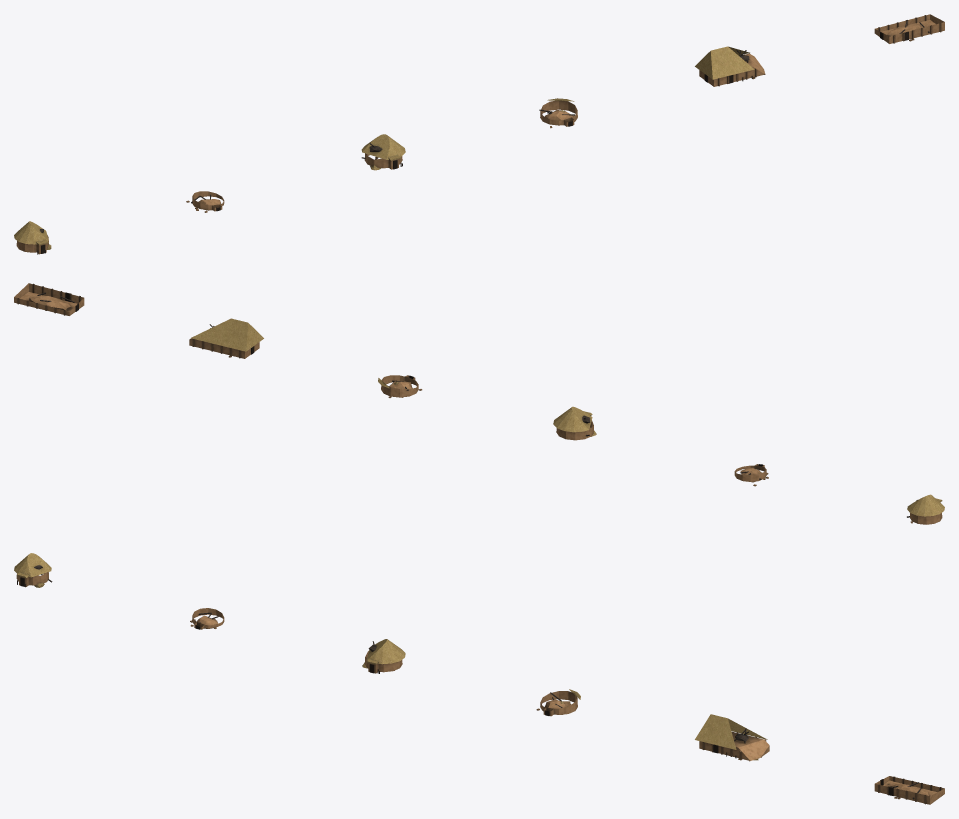
File: stone-europe-houses-damage.glb
3 renders of one model, top to bottom at view 1: azimuth 30°, elevation 25°; view 2: azimuth 150°, elevation 25°; view 3: azimuth 330°, elevation 25°, orthographic.
Parts seen in each view (by area): view 1: LOD0.004, LOD0.005, LOD0.002, LOD0.003, LOD0, LOD0.001; view 2: LOD0.004, LOD0.005, LOD0.002, LOD0, LOD0.003; view 3: LOD0.004, LOD0.005, LOD0.002, LOD0, LOD0.003, LOD0.001.
Boxes of the visible parts, x1,y1,x2,y2 form: LOD0.004: (695, 46, 765, 86); LOD0.005: (874, 14, 944, 43); LOD0.002: (361, 134, 405, 170); LOD0.003: (539, 98, 577, 128); LOD0: (14, 221, 51, 254); LOD0.001: (186, 191, 224, 212); LOD0.004: (189, 318, 263, 358); LOD0.005: (14, 283, 84, 315); LOD0.002: (553, 406, 596, 440); LOD0: (907, 494, 944, 524); LOD0.003: (378, 375, 422, 397); LOD0.004: (695, 714, 769, 761); LOD0.005: (874, 776, 944, 804); LOD0.002: (362, 639, 405, 673); LOD0: (14, 553, 52, 587); LOD0.003: (536, 689, 580, 716); LOD0.001: (190, 608, 224, 629).
Size of what is drawn, in the model's own units: 15.75 by 0.52 by 0.7004.
1 material, 1 textured.
